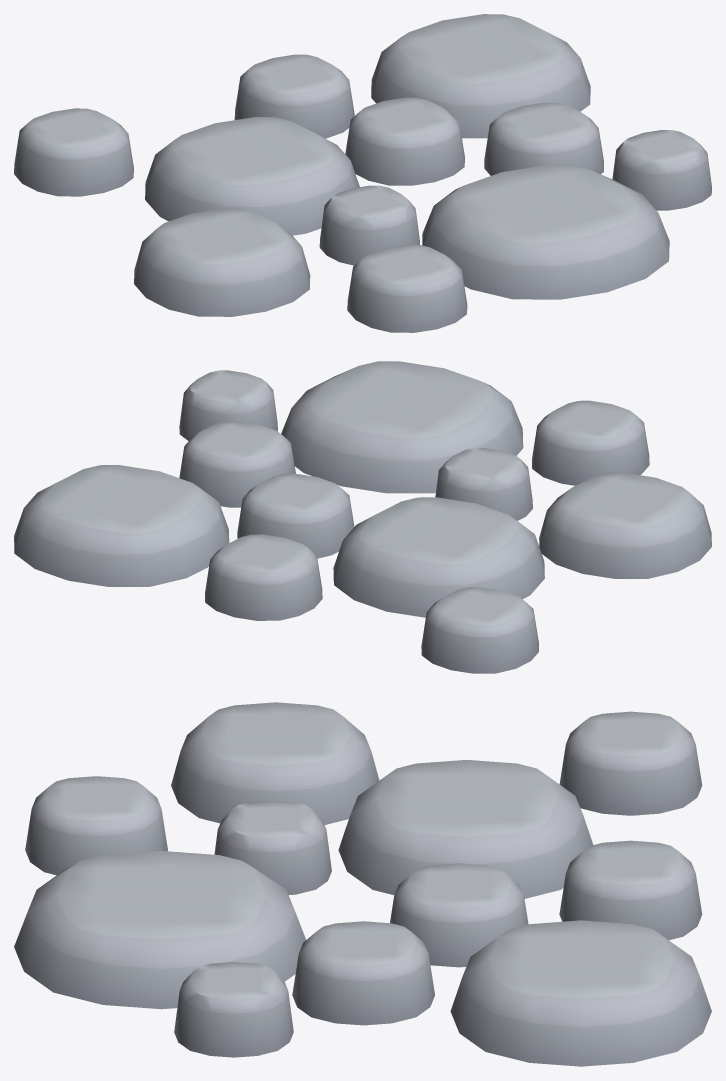
Rendered from prop_park_cobble_stones_large.glb.
3 views of the same model, one above another, from view 1: azimuth 30°, elevation 25°; view 2: azimuth 150°, elevation 25°; view 3: azimuth 270°, elevation 25° (orthographic). The views are drawn at different scales.
Visible parts, largest first — view 1: cobble_stones_large; view 2: cobble_stones_large; view 3: cobble_stones_large.
Boxes of the visible parts, left/top/right/bottom form: cobble_stones_large: left=14, top=14, right=711, bottom=332; cobble_stones_large: left=14, top=361, right=711, bottom=673; cobble_stones_large: left=14, top=702, right=711, bottom=1066.
Size of the model in its own units: 2.02 by 0.15 by 1.83.
1 material, 1 textured.
